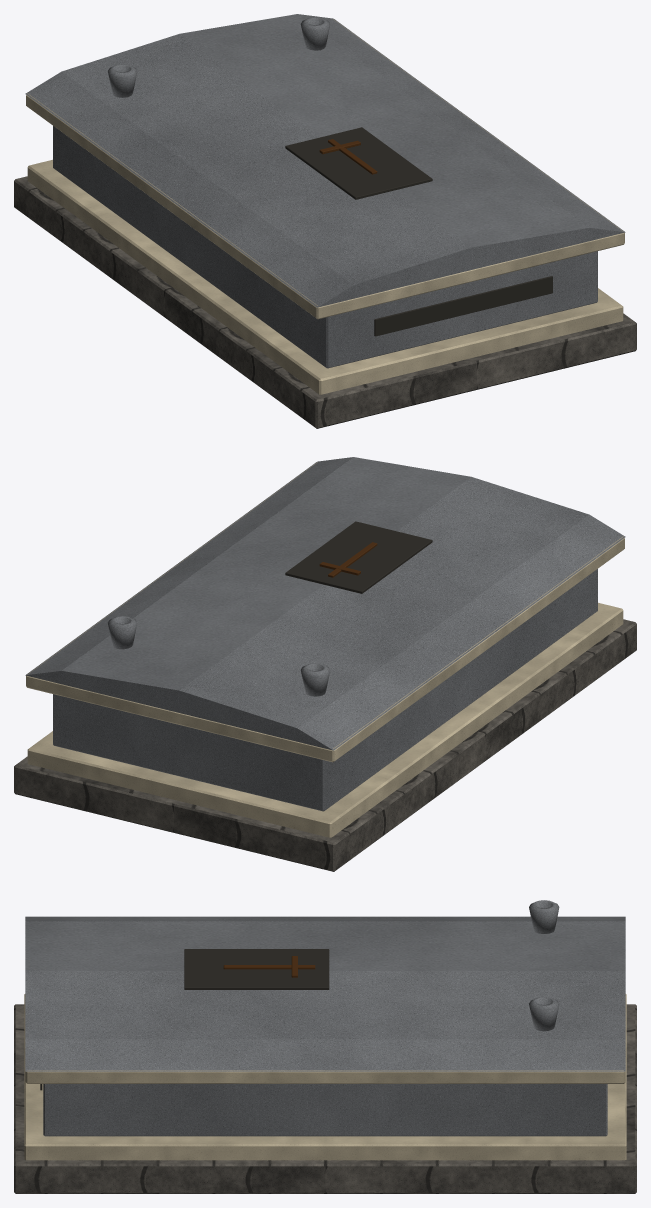
Rendered from tumba_03_sepulcro_bajo.obj.
The picture shows the model from 3 angles, top to bottom: view 1: azimuth 30°, elevation 25°; view 2: azimuth 150°, elevation 25°; view 3: azimuth 270°, elevation 25°; orthographic projection. The views are drawn at different scales.
Parts seen in each view (by area): view 1: Tumba_03_Sepulcro_Bajo; view 2: Tumba_03_Sepulcro_Bajo; view 3: Tumba_03_Sepulcro_Bajo.
Boxes of the visible parts, left/top/right/bottom form: Tumba_03_Sepulcro_Bajo: left=14, top=14, right=636, bottom=428; Tumba_03_Sepulcro_Bajo: left=14, top=457, right=636, bottom=871; Tumba_03_Sepulcro_Bajo: left=14, top=900, right=636, bottom=1193.
Bounding box in the file's own units: 1.5 × 0.698 × 2.45.
5 materials, 3 textured.
